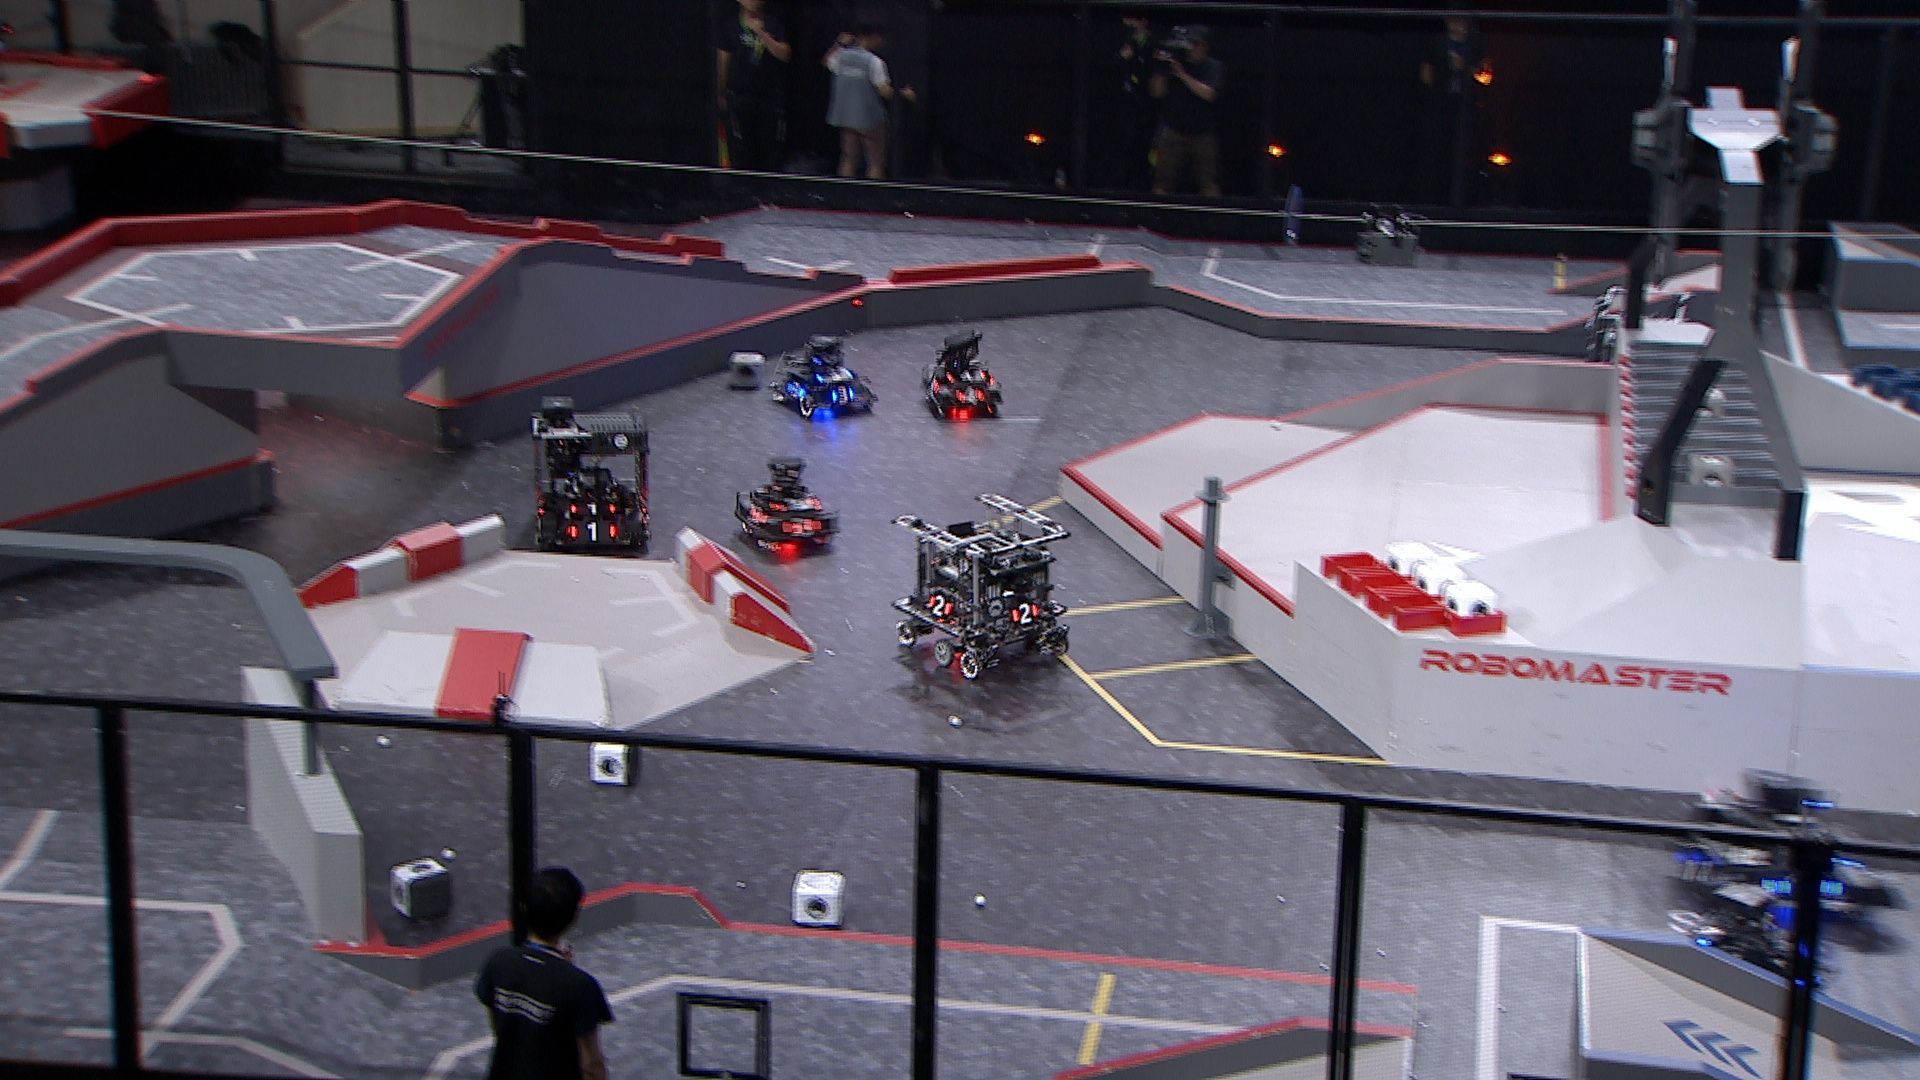armor: (1680, 847, 1716, 887), (570, 522, 613, 541), (926, 593, 953, 621), (567, 500, 617, 514), (1007, 603, 1040, 624), (955, 386, 986, 405), (785, 520, 816, 535), (818, 367, 847, 384), (781, 495, 814, 508), (832, 386, 856, 404), (951, 367, 982, 378), (744, 505, 764, 524), (789, 378, 807, 398), (923, 375, 940, 392)
car: (891, 489, 1073, 679), (1671, 773, 1879, 928), (524, 392, 655, 555), (1683, 884, 1836, 1007), (1580, 278, 1718, 409), (732, 456, 839, 553), (767, 332, 876, 419), (920, 328, 1006, 417)
